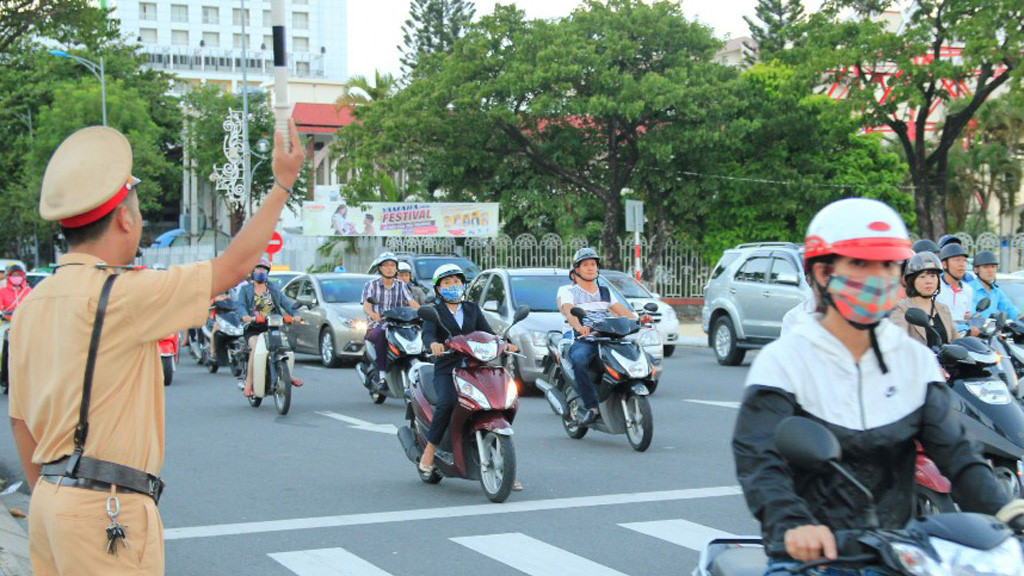police: (5, 116, 304, 576)
